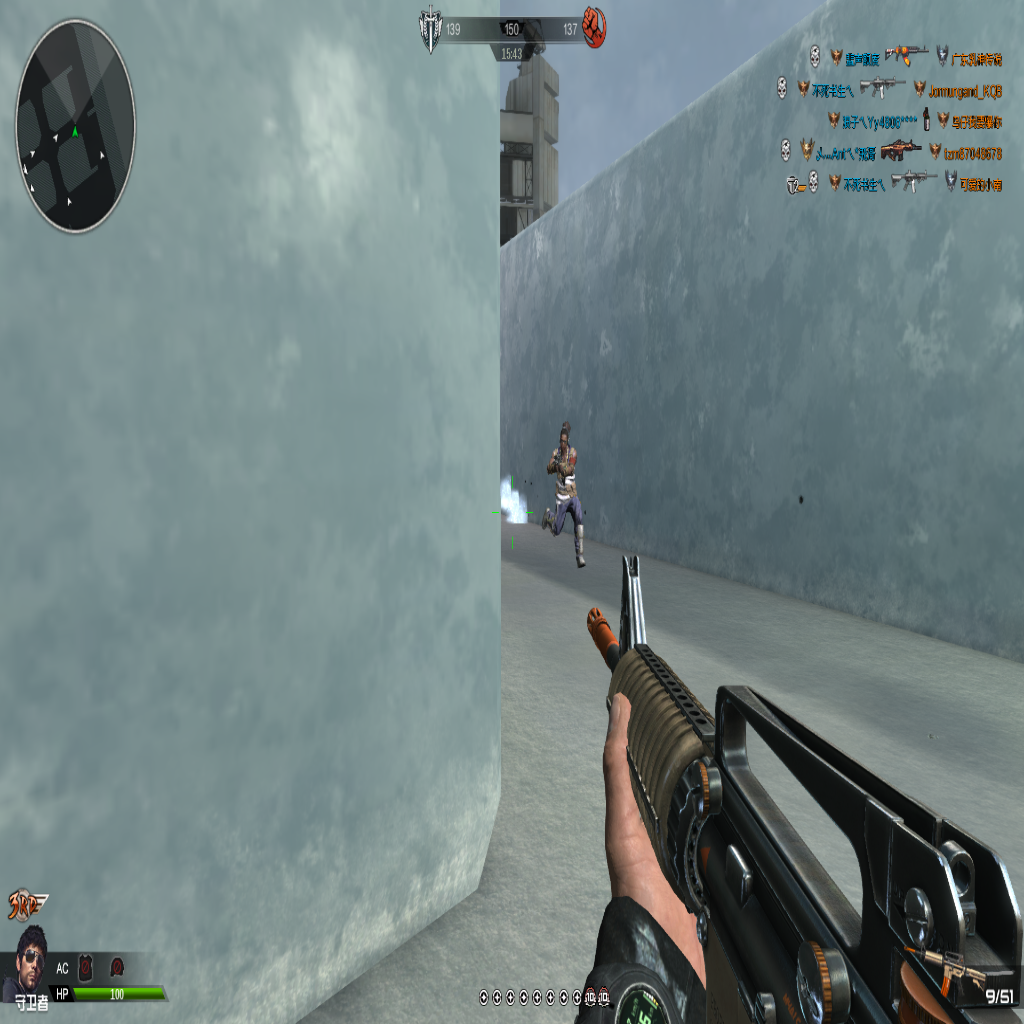tt: (543, 423, 586, 559)
